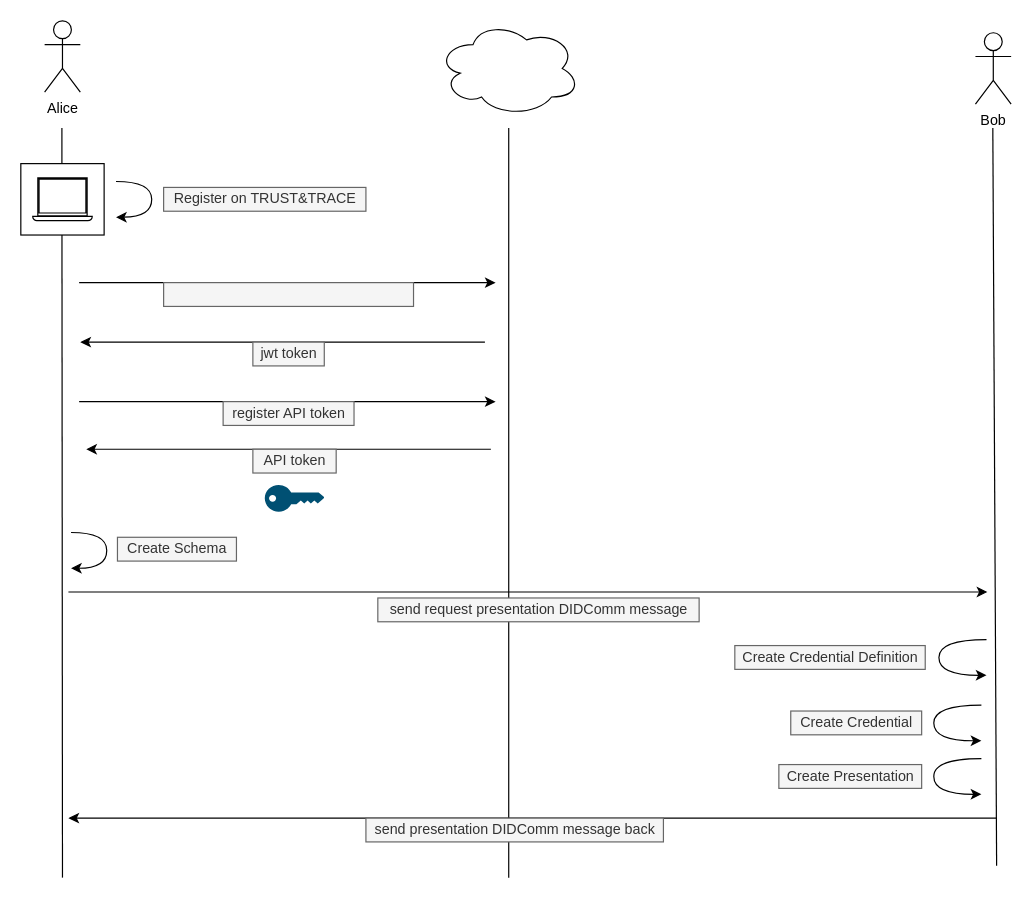
Image size: 1033x900. Some labels were removed from this diagram. The box of each missing label's shape, as (x1, y1, x2, y2) in pixels:
authenticate with e-mail + password: (162, 281, 414, 306)
TRUST&TRACE: (436, 20, 580, 116)
